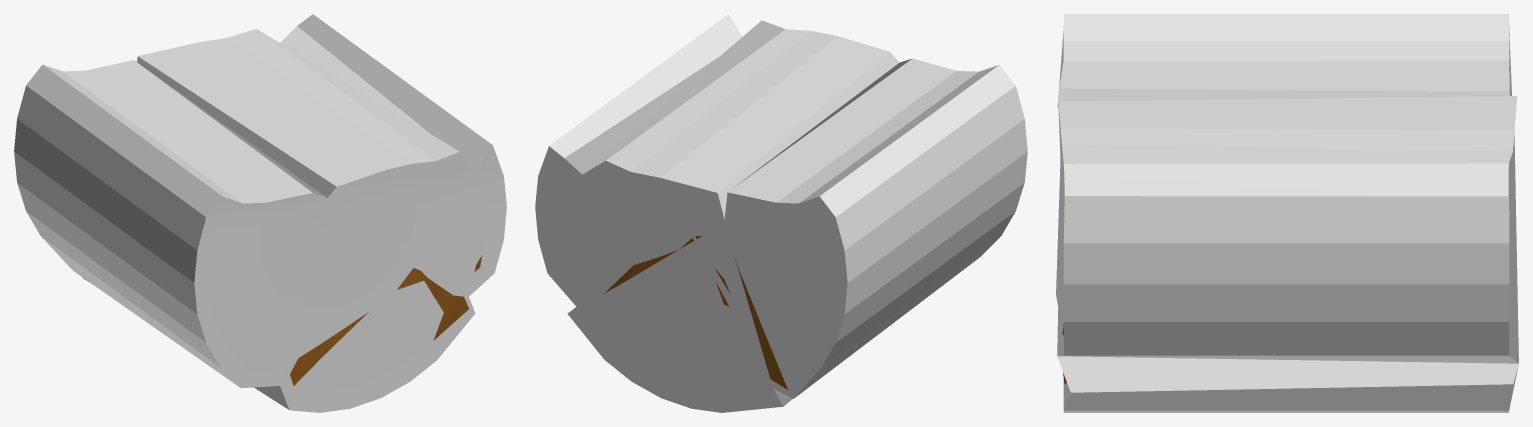
The model's file is Log2.fbx.
3 renders of one model, left to right at view 1: azimuth 30°, elevation 25°; view 2: azimuth 150°, elevation 25°; view 3: azimuth 270°, elevation 25°, orthographic. The views are drawn at different scales.
Parts seen in each view (by area): view 1: Cylinder; view 2: Cylinder; view 3: Cylinder.
Part boxes in pixels (box(x1,y1,x2,y2)): Cylinder: box(14, 14, 506, 412); Cylinder: box(535, 14, 1027, 412); Cylinder: box(1056, 14, 1518, 412).
Size of the model in its own units: 104 by 77.7 by 108.
2 materials, 1 textured.
